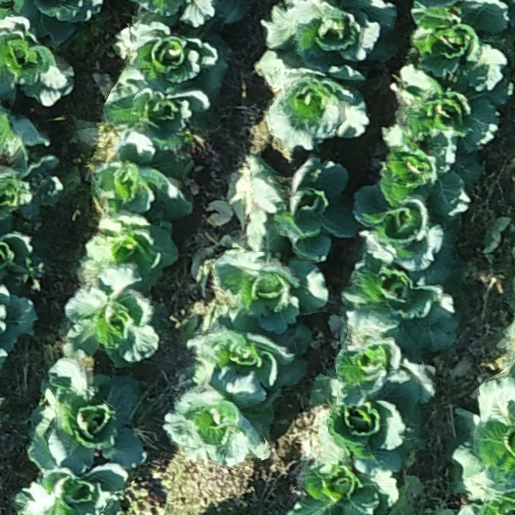Cabbage: (29, 345, 147, 474), (212, 211, 329, 334), (389, 63, 511, 173), (254, 0, 402, 88), (238, 156, 359, 263), (310, 370, 426, 476), (342, 248, 458, 353), (164, 363, 274, 464), (65, 263, 168, 370), (354, 186, 462, 284), (104, 66, 221, 152), (176, 316, 309, 390), (91, 129, 194, 224), (379, 126, 483, 220), (114, 21, 234, 101), (266, 68, 370, 160), (443, 374, 515, 501), (69, 210, 180, 292), (410, 0, 510, 91), (333, 305, 421, 406), (0, 7, 74, 105), (290, 451, 401, 515), (9, 462, 128, 515), (10, 0, 104, 49), (1, 153, 64, 221), (0, 215, 34, 280)
